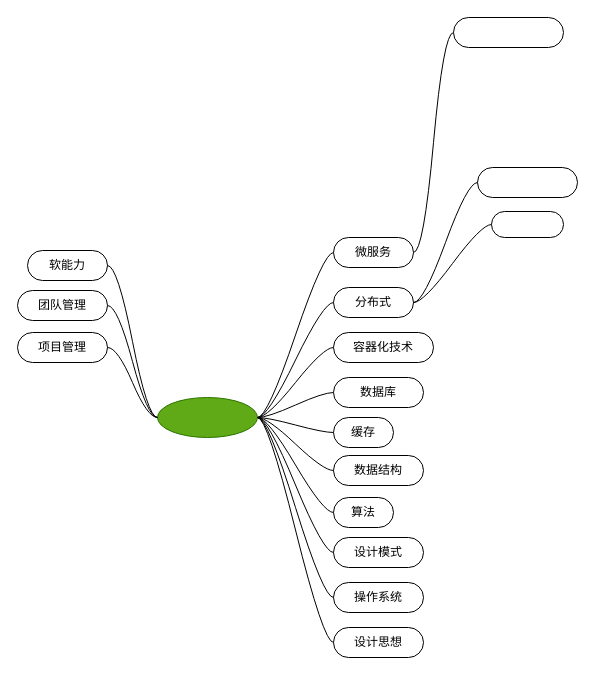
This 595x675 diagram has some shape labels left out. Here are the shapes that lost their labels. From the top down, the centre of each, then its label:
At (x=508, y=32): "Martin Flower".
At (x=527, y=182): "分布式事务".
At (x=527, y=224): "Sub Topic".
At (x=207, y=417): "架构师技术图谱".
